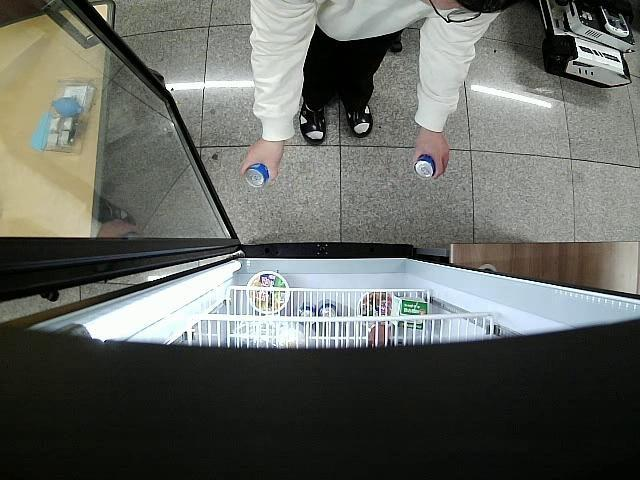15_letsbe: (244, 164, 270, 189), (414, 152, 435, 180)
